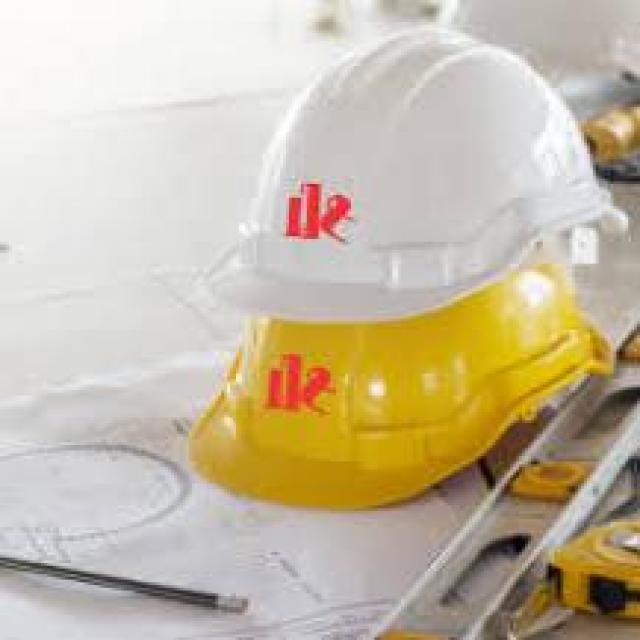Safety-Helmet: (212, 14, 634, 349), (183, 249, 621, 512)
